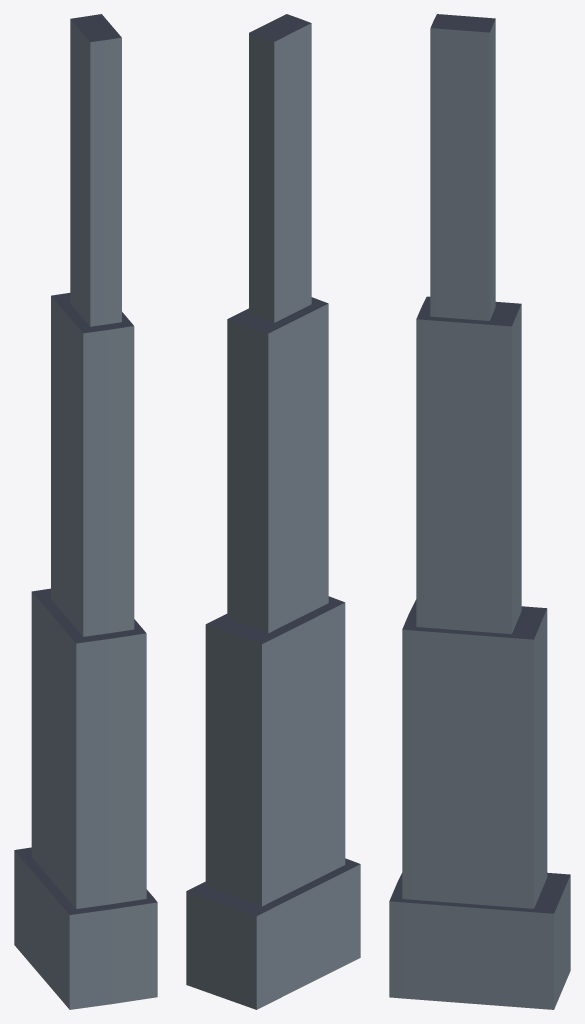
Rendered from hobart-building-wardian-west.glb.
3 views of the same model, side by side, from view 1: azimuth 30°, elevation 25°; view 2: azimuth 150°, elevation 25°; view 3: azimuth 270°, elevation 25° (orthographic). The views are drawn at different scales.
Parts seen in each view (by area): view 1: hobart-building-wardian-west-1, hobart-building-wardian-west-2, hobart-building-wardian-west-3, hobart-building-wardian-west-0; view 2: hobart-building-wardian-west-1, hobart-building-wardian-west-2, hobart-building-wardian-west-3, hobart-building-wardian-west-0; view 3: hobart-building-wardian-west-1, hobart-building-wardian-west-2, hobart-building-wardian-west-3, hobart-building-wardian-west-0.
Boxes of the visible parts, box(x1,y1,x2,y2) form: hobart-building-wardian-west-1: box(31, 588, 146, 908); hobart-building-wardian-west-2: box(51, 293, 134, 636); hobart-building-wardian-west-3: box(70, 14, 121, 326); hobart-building-wardian-west-0: box(14, 847, 157, 1009); hobart-building-wardian-west-1: box(205, 596, 345, 906); hobart-building-wardian-west-2: box(227, 297, 328, 633); hobart-building-wardian-west-3: box(249, 14, 311, 322); hobart-building-wardian-west-0: box(186, 858, 360, 1009); hobart-building-wardian-west-1: box(402, 599, 547, 908); hobart-building-wardian-west-2: box(416, 296, 521, 634); hobart-building-wardian-west-3: box(430, 14, 495, 320); hobart-building-wardian-west-0: box(389, 872, 570, 1009).
Bounding box in the file's own units: 0.253 × 2.2 × 0.3754.
